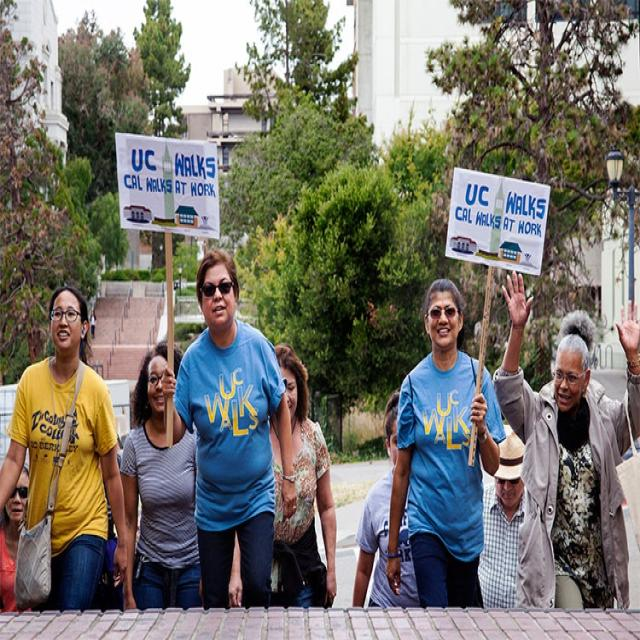body: (487, 265, 639, 639), (159, 244, 298, 610), (0, 283, 131, 613), (384, 276, 508, 610), (513, 333, 632, 608), (227, 342, 339, 609), (119, 338, 204, 612), (350, 385, 428, 611), (477, 426, 528, 610), (0, 462, 33, 613), (102, 431, 129, 612), (89, 307, 97, 339)
